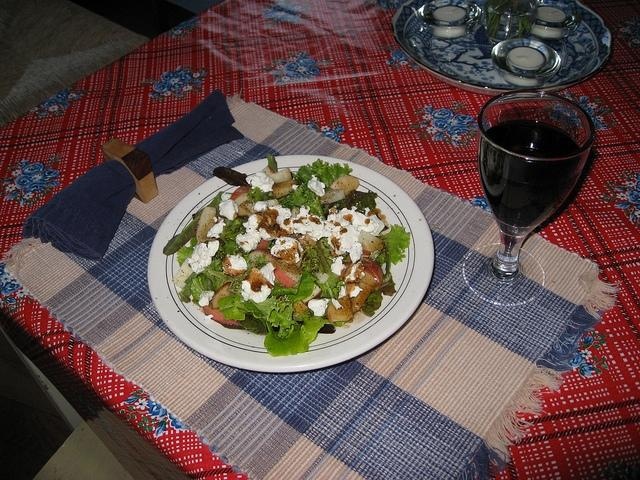lettuce: (218, 294, 282, 337), (162, 213, 202, 255), (377, 224, 411, 266), (263, 326, 309, 357), (301, 237, 336, 276), (272, 271, 314, 302), (192, 256, 228, 292), (316, 162, 352, 186), (190, 272, 216, 301), (277, 303, 298, 337), (304, 188, 326, 220), (176, 236, 197, 267), (362, 288, 384, 316), (238, 314, 268, 334), (270, 302, 292, 328), (219, 241, 249, 258), (208, 268, 236, 285), (247, 186, 275, 203), (289, 188, 309, 207), (224, 228, 246, 242), (228, 218, 248, 231), (266, 153, 278, 173), (302, 184, 312, 192)
